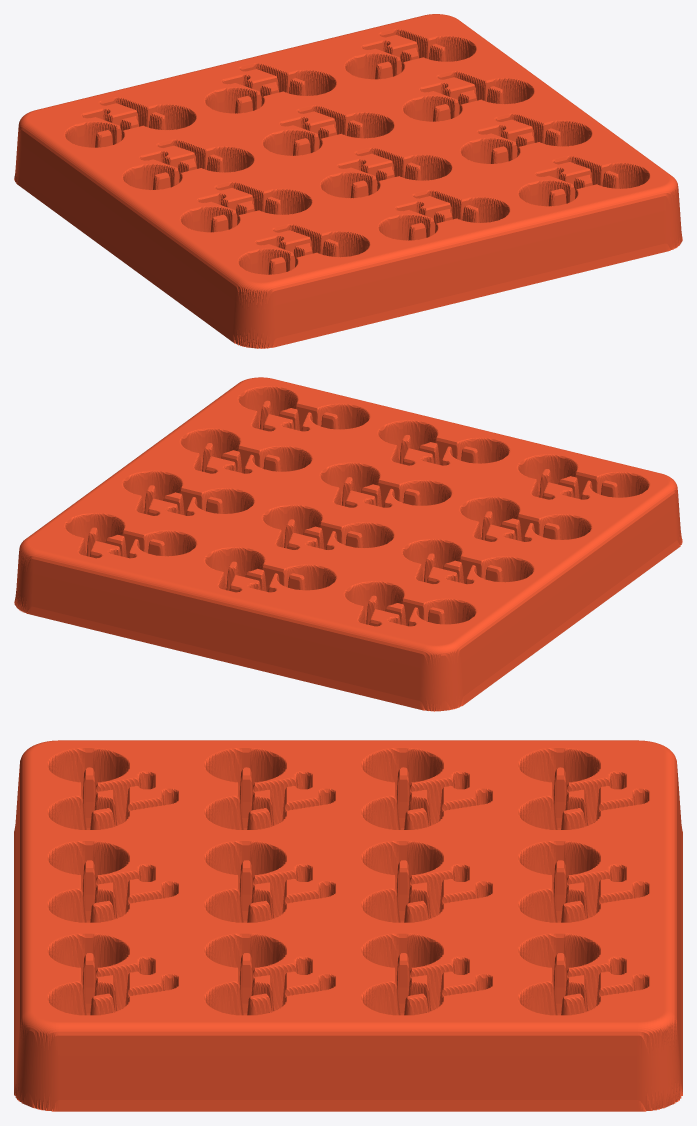
File: mold.glb
3 views of the same model, one above another, from view 1: azimuth 30°, elevation 25°; view 2: azimuth 150°, elevation 25°; view 3: azimuth 270°, elevation 25° (orthographic). The views are drawn at different scales.
Visible parts, largest first — view 1: geometry_0; view 2: geometry_0; view 3: geometry_0.
Boxes of the visible parts, x1,y1,x2,y2 form: geometry_0: (14, 14, 682, 348); geometry_0: (14, 377, 682, 711); geometry_0: (14, 740, 682, 1111).
Size of the model in its own units: 0.141 by 0.0182 by 0.1348.
